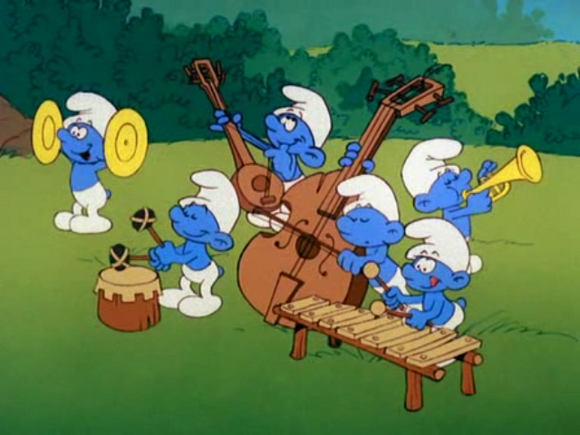smurf: (148, 170, 243, 318), (246, 85, 332, 230), (52, 90, 116, 234), (332, 176, 405, 297), (396, 218, 471, 335), (404, 136, 496, 219)
